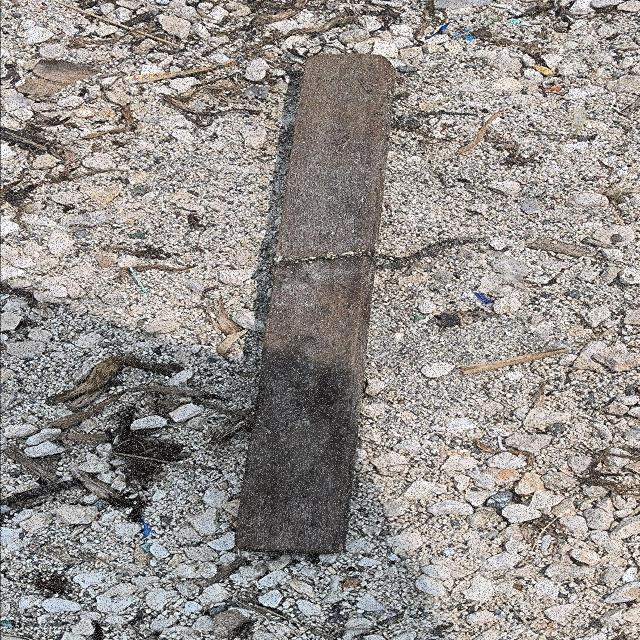wood_waste: (231, 53, 399, 557)
